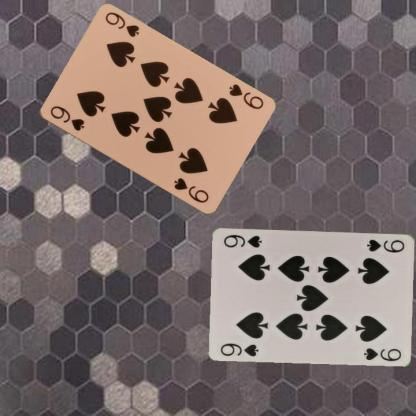9s: (226, 81, 265, 111), (47, 103, 85, 133), (218, 340, 260, 358), (365, 236, 406, 254)
